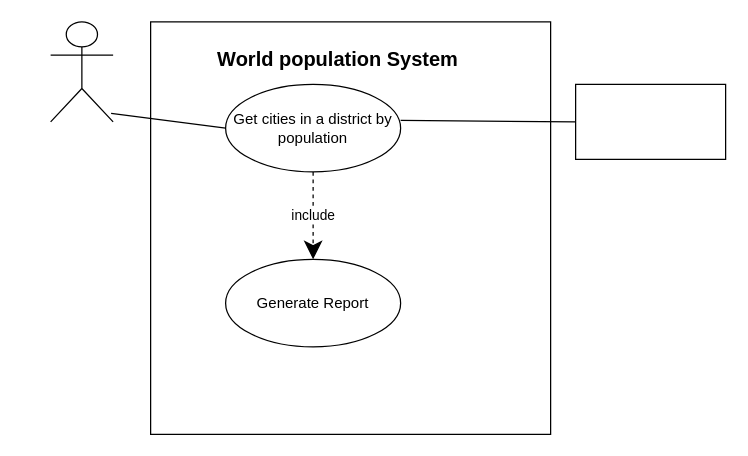
Image size: 748x456. Some labels were removed from this diagram. The centre of each missing label's shape, as x and y in pixels:
Database: the point at 650,121
Organisation User: the point at 81,71
